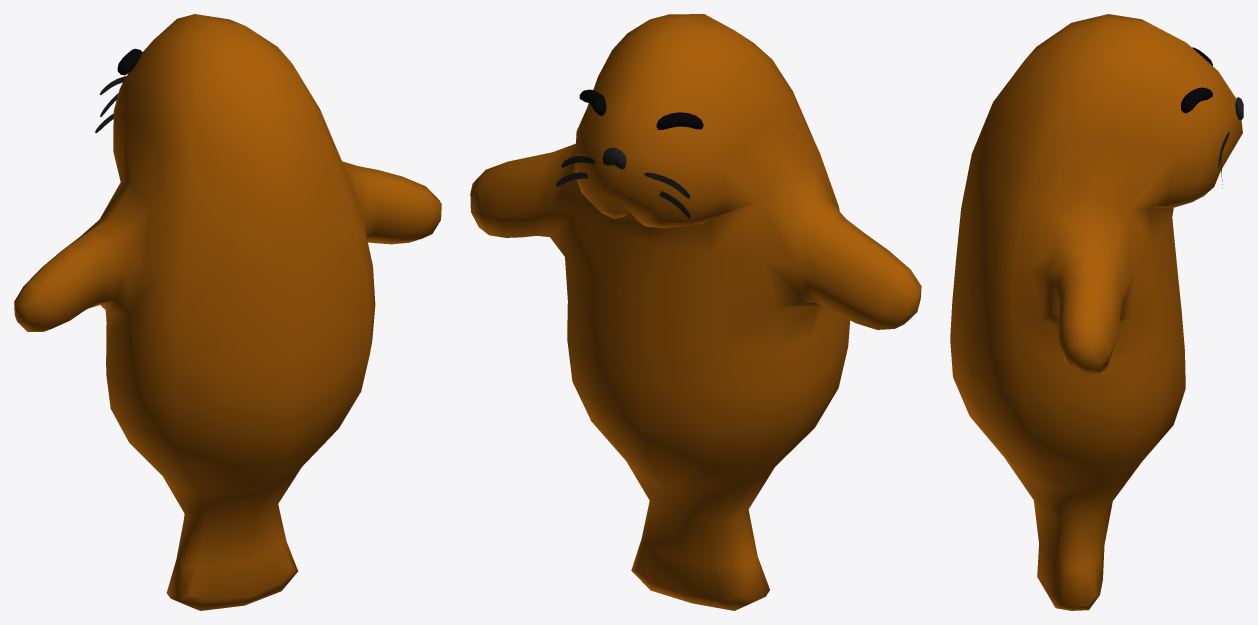
The model's file is Seal.fbx.
3 renders of one model, left to right at view 1: azimuth 30°, elevation 25°; view 2: azimuth 150°, elevation 25°; view 3: azimuth 270°, elevation 25°, orthographic. The views are drawn at different scales.
Visible parts, largest first — view 1: Cube.066; view 2: Cube.066; view 3: Cube.066.
Part boxes in pixels (x1,y1,x2,y2): Cube.066: (14, 14, 441, 610); Cube.066: (470, 14, 921, 610); Cube.066: (950, 14, 1243, 610).
Bounding box in the file's own units: 262 × 332 × 155.
